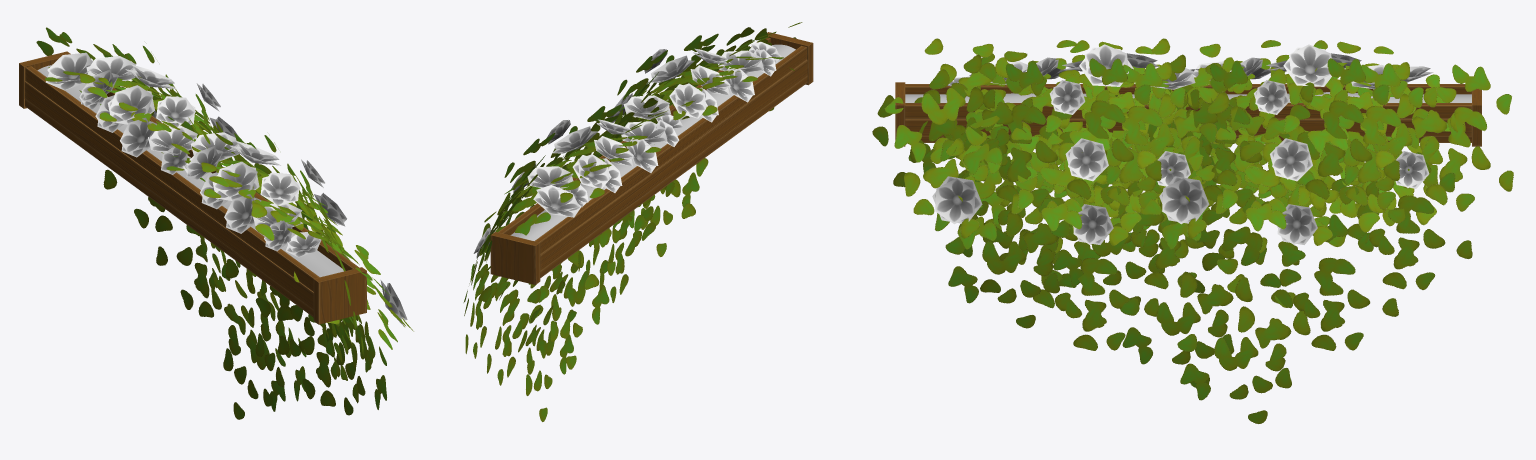
Rendered from SM_FlowerPlanter_03.fbx.
The picture shows the model from 3 angles, left to right: view 1: azimuth 30°, elevation 25°; view 2: azimuth 150°, elevation 25°; view 3: azimuth 270°, elevation 25°; orthographic projection. The views are drawn at different scales.
Visible parts, largest first — view 1: SM_FlowerPlanter_03_LOD0; view 2: SM_FlowerPlanter_03_LOD0; view 3: SM_FlowerPlanter_03_LOD0.
Part boxes in pixels (bbox=[...]): SM_FlowerPlanter_03_LOD0: bbox=[19, 27, 413, 419]; SM_FlowerPlanter_03_LOD0: bbox=[463, 22, 813, 421]; SM_FlowerPlanter_03_LOD0: bbox=[872, 38, 1513, 423].
Size of the model in its own units: 159 by 500 by 314.
